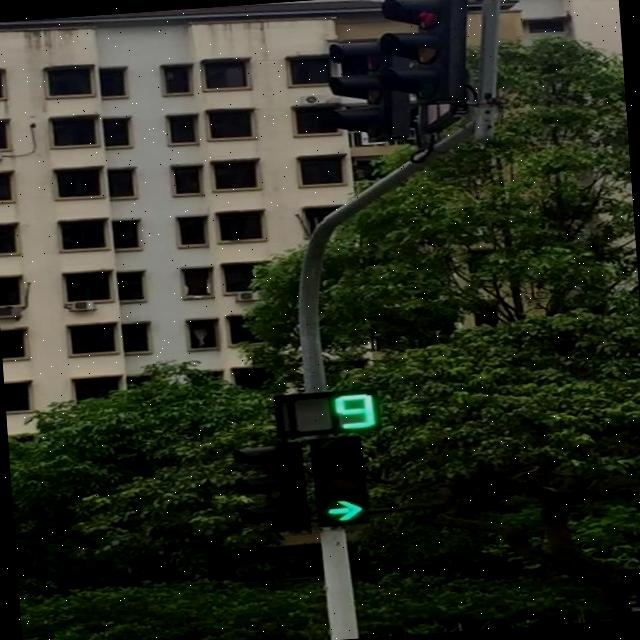green_light: (310, 434, 370, 526)
